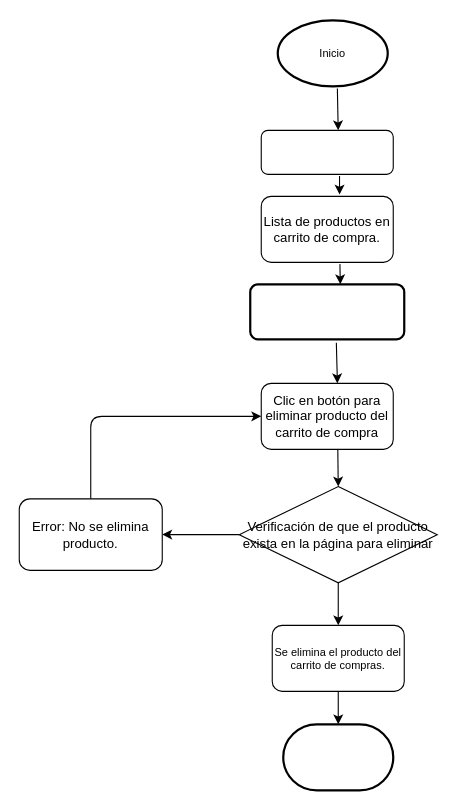
This 457x810 diagram has some shape labels left out. The centre of each missing label's shape, as x and y in pixels:
"Eliminar productos en el carrito de compra" belongs at point (327, 311).
"Fin" belongs at point (338, 757).
"Menú/Página de buscar" belongs at point (326, 151).
